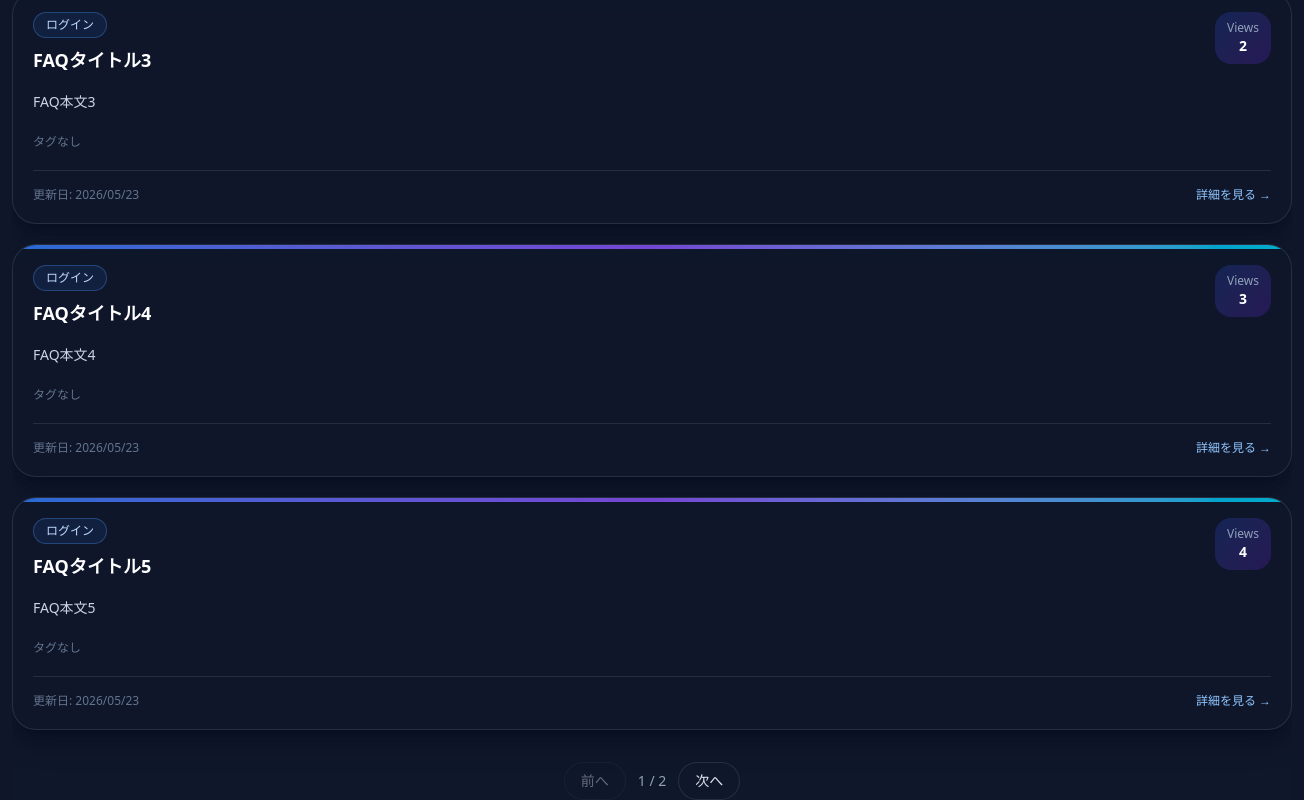
HomePage › 前へボタンで1ページ目に戻る
(page scrolled)
Click the button "次へ": (709, 781) [678,762,740,799]
(page scrolled)
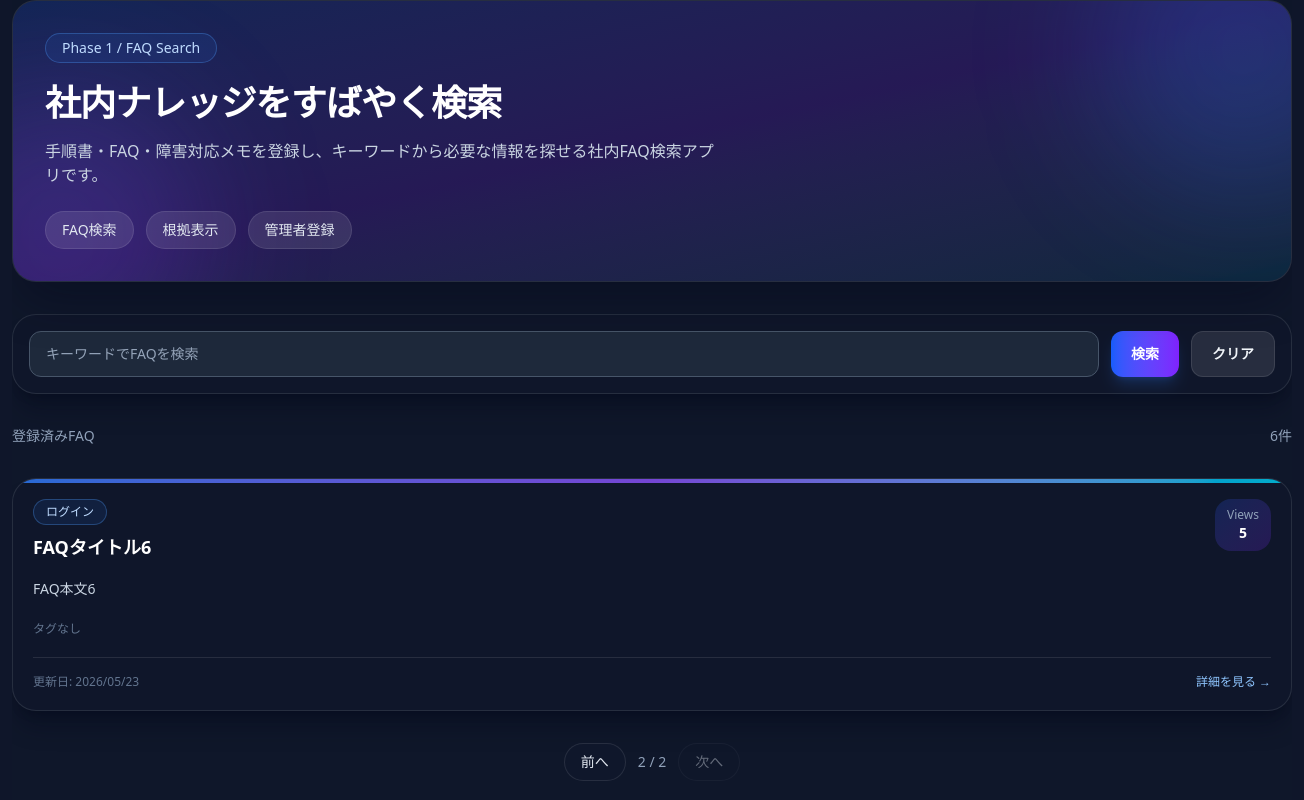
Click the button "前へ": (595, 762) [564,743,626,781]
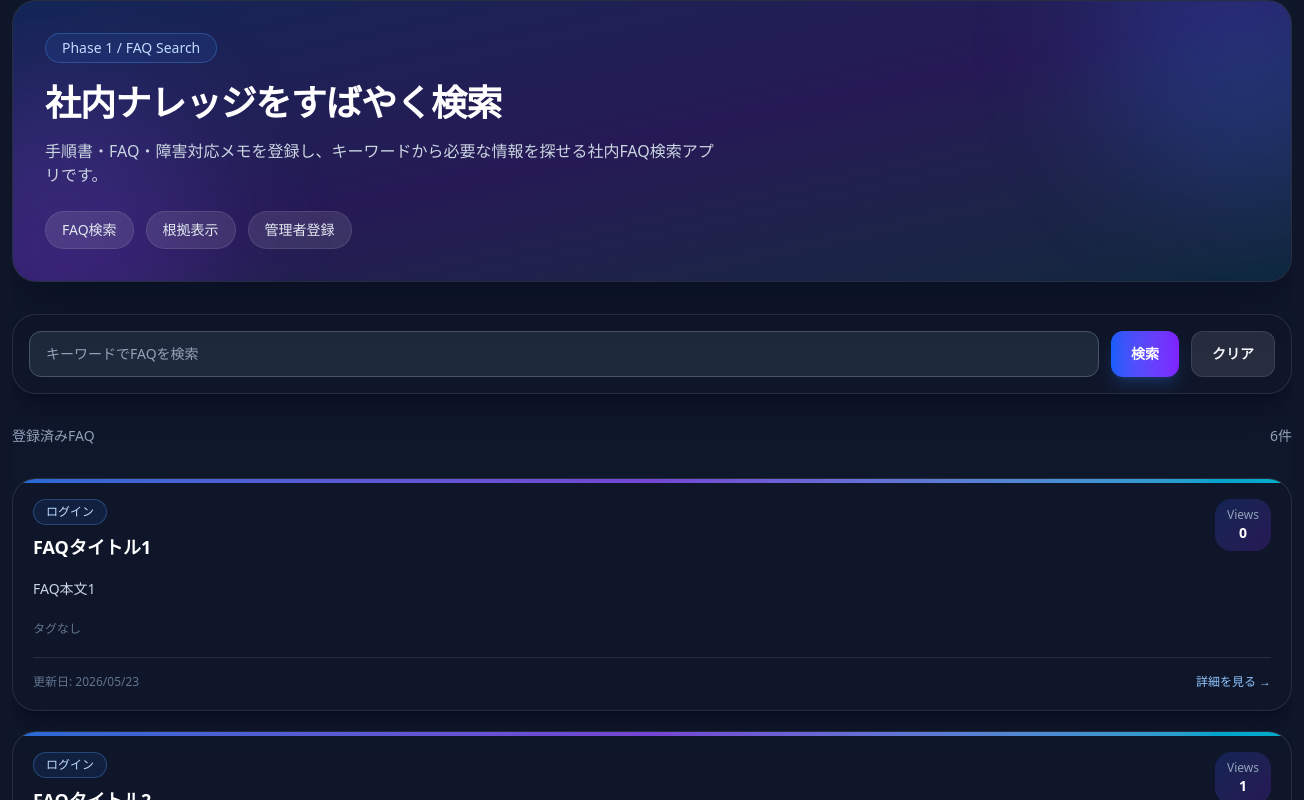
Result: the heading "FAQタイトル1" is shown at [33,533,151,561]
